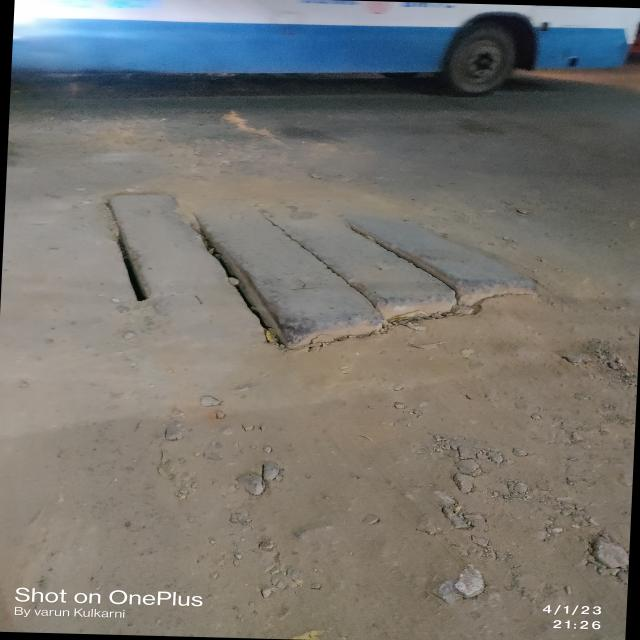manhole: (105, 183, 576, 357)
